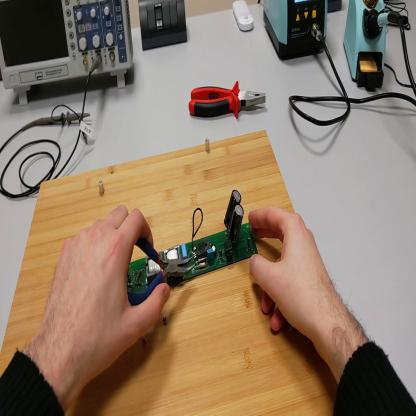hand: (45, 202, 171, 383), (249, 205, 334, 346)
high voltage board: (127, 190, 258, 294)
oscilloscope: (2, 1, 136, 109)
oscilloscope probe tip: (34, 114, 92, 131)
pliers: (132, 234, 192, 306), (187, 80, 267, 125)
socket: (329, 4, 344, 15)
welder base: (344, 2, 389, 96)
welder probe tip: (370, 7, 400, 33)
welder station: (264, 2, 328, 62)
working area: (2, 130, 342, 416)
